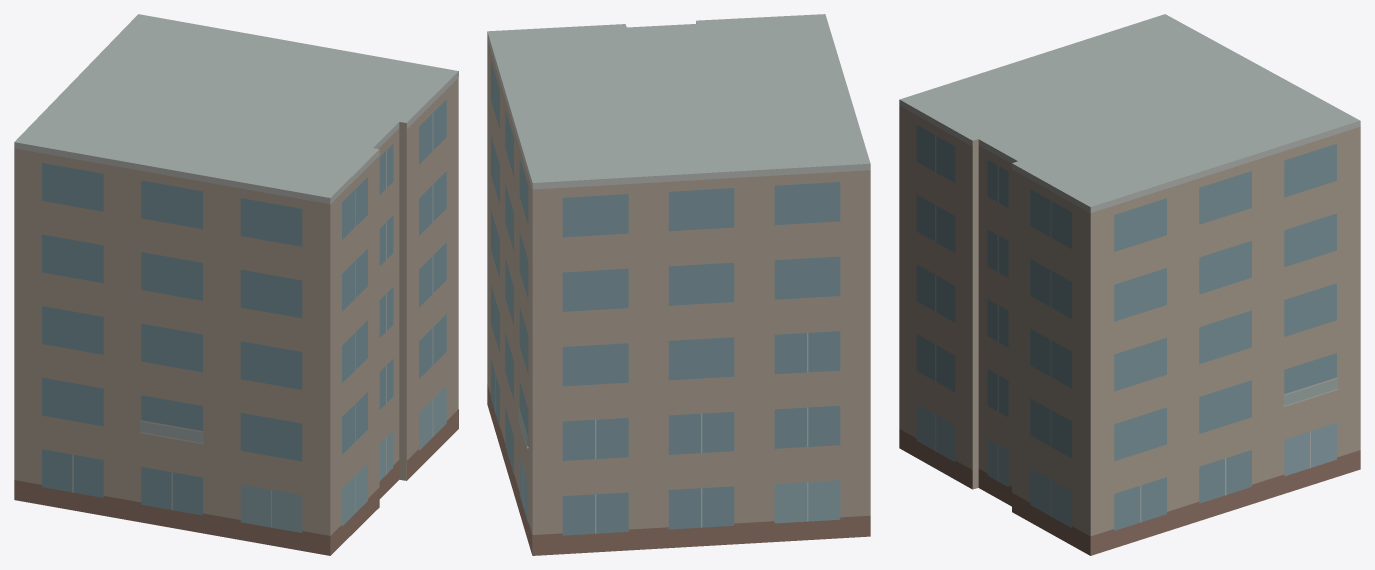
The model's file is survey-upis-32723313.glb.
The picture shows the model from 3 angles, left to right: view 1: azimuth 30°, elevation 25°; view 2: azimuth 150°, elevation 25°; view 3: azimuth 270°, elevation 25°; orthographic projection. The views are drawn at different scales.
Visible parts, largest first — view 1: survey-upis-32723313.tmp; view 2: survey-upis-32723313.tmp; view 3: survey-upis-32723313.tmp.
Boxes of the visible parts, <box> form: survey-upis-32723313.tmp: <box>14,14,458,555</box>; survey-upis-32723313.tmp: <box>487,14,870,555</box>; survey-upis-32723313.tmp: <box>899,14,1360,555</box>.
Size of the model in its own units: 16.76 by 14.1 by 16.9.
